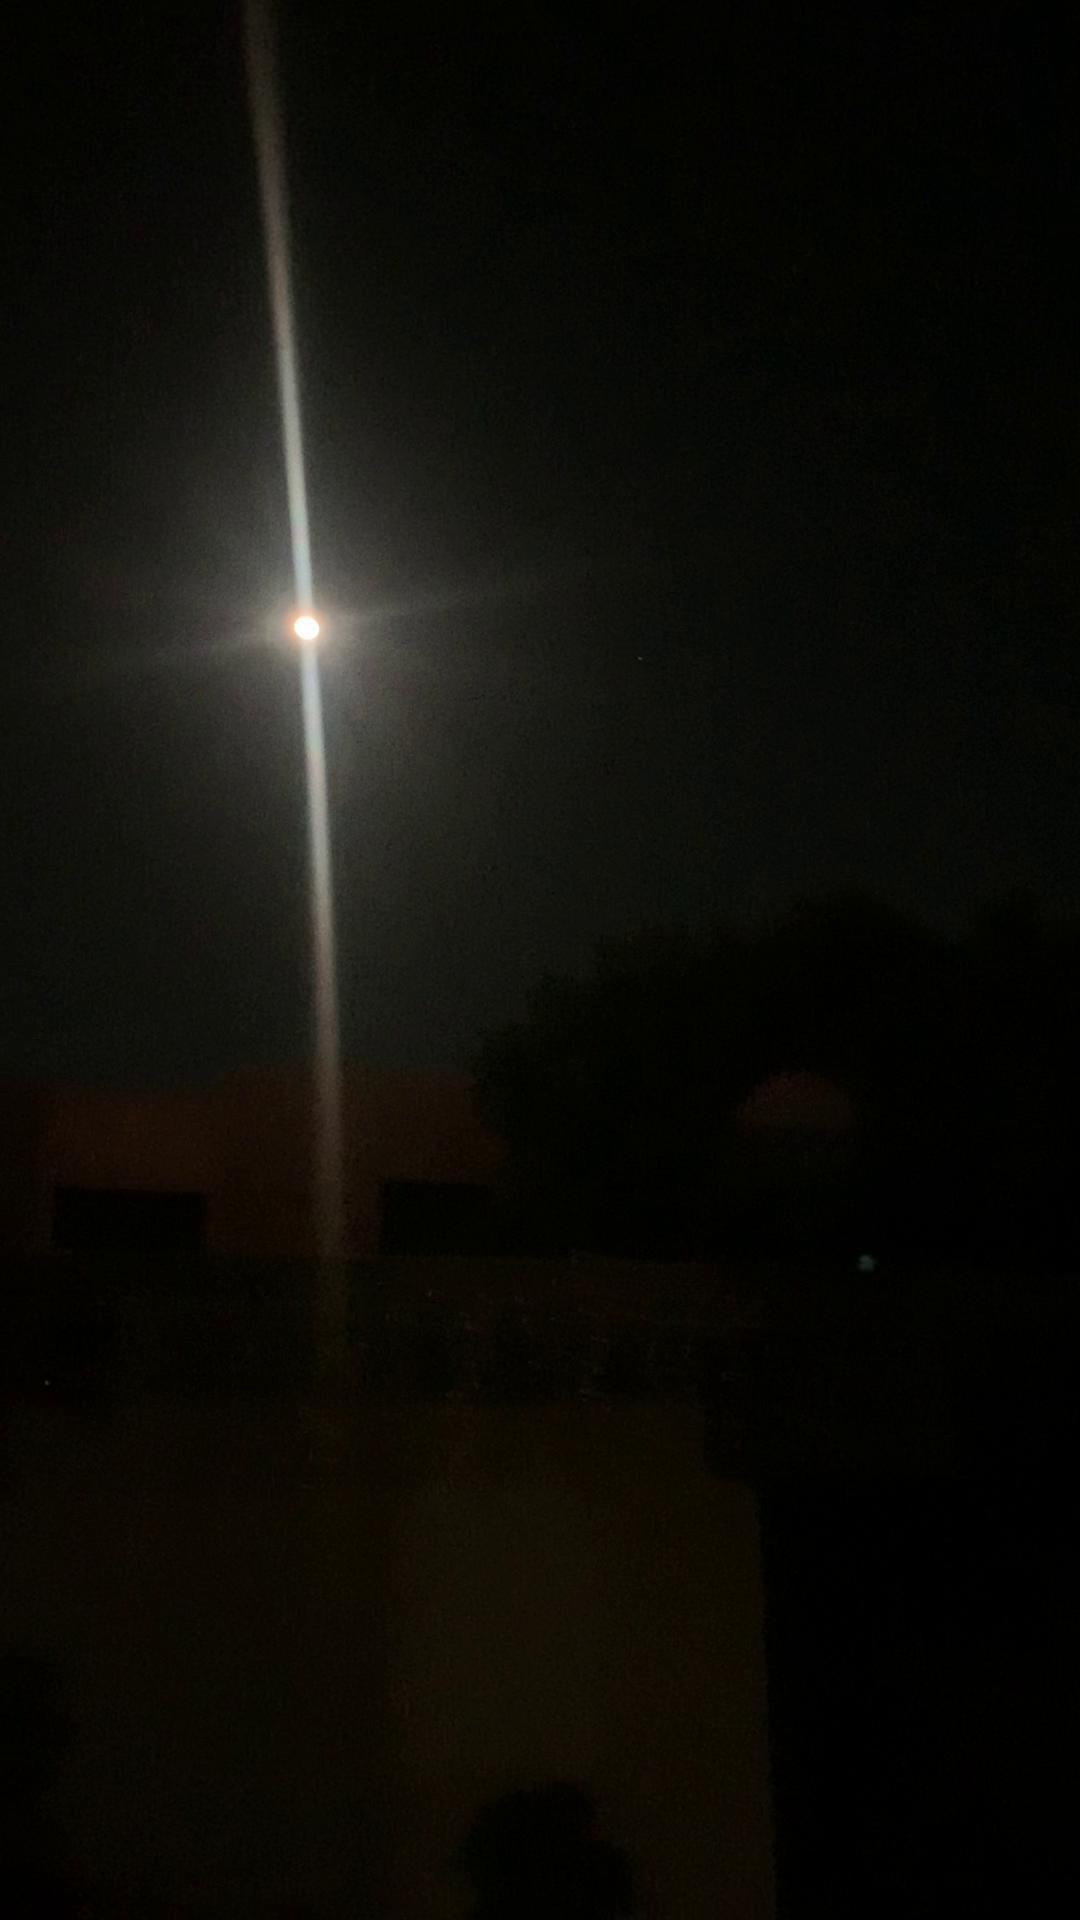moon: (270, 590, 345, 668)
